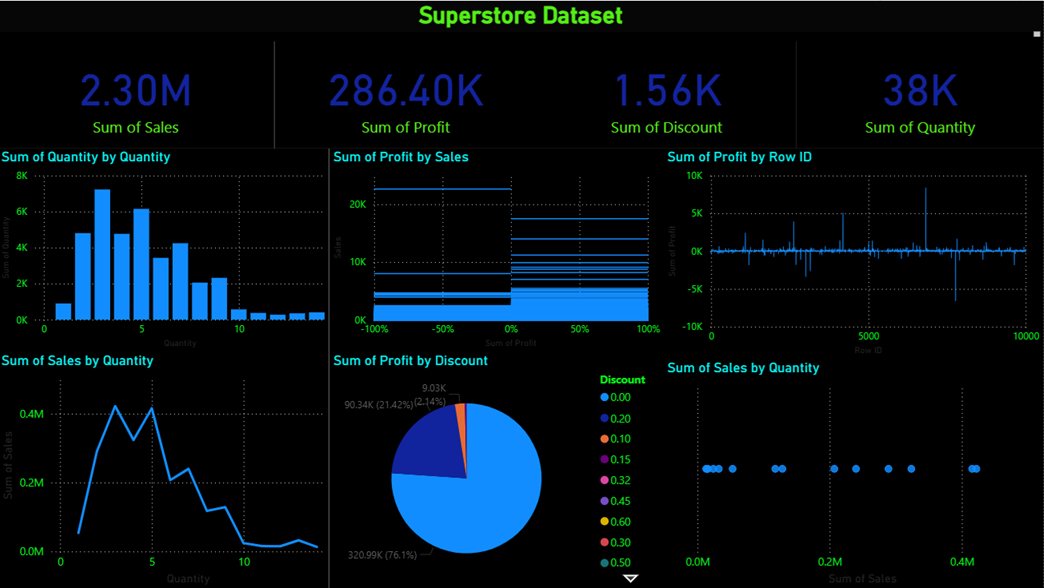

What the dashboard file says about the page in this screenshot:
{"tool":"powerbi","page":{"name":"Page 1","canvas":[1280,720],"ordinal":0},"visuals":[{"type":"columnChart","fields":{"Category":["Orders.Quantity"],"Y":["Sum(Orders.Quantity)"]},"box":[0,181,406,249.5],"z":0},{"type":"lineChart","fields":{"Category":["Orders.Quantity"],"Y":["Sum(Orders.Sales)"]},"box":[0,430.4,406,289.8],"z":1000},{"type":"hundredPercentStackedBarChart","fields":{"Y":["Sum(Orders.Profit)"],"Category":["Orders.Sales"]},"box":[406,181,409.6,249.5],"z":2000},{"type":"pieChart","fields":{"Category":["Orders.Discount"],"Y":["Sum(Orders.Profit)"]},"box":[406,430.4,409.6,289.8],"z":3000},{"type":"ribbonChart","fields":{"Category":["Orders.Row ID"],"Y":["Sum(Orders.Profit)"]},"box":[814.4,181,465.9,258],"z":4000},{"type":"scatterChart","fields":{"Category":["Orders.Quantity"],"X":["Sum(Orders.Sales)"]},"box":[814.4,439,465.9,281.3],"z":5000},{"type":"textbox","title":"Superstore Dataset","box":[0,0,1280.3,49.4],"z":6000},{"type":"card","fields":{"Values":["Sum(Orders2.Sales)"]},"box":[0,48.9,338.7,132.1],"z":6001},{"type":"card","fields":{"Values":["Sum(Orders2.Profit)"]},"box":[338.7,48.9,321.6,132.1],"z":6002},{"type":"card","fields":{"Values":["Sum(Orders2.Discount)"]},"box":[660.3,48.9,316.7,132.1],"z":6003},{"type":"card","fields":{"Values":["Sum(Orders2.Quantity)"]},"box":[977,48.9,303.3,132.1],"z":6004}]}

Visuals, with their boxes in screenshot pixels (x1, y1, x2, y2), scaled from the page's 1280x720 canvas onto the 1044x588 screenshot:
columnChart - Orders.Quantity x Sum(Orders.Quantity): left=0, top=148, right=331, bottom=352
lineChart - Orders.Quantity x Sum(Orders.Sales): left=0, top=351, right=331, bottom=587
hundredPercentStackedBarChart - Sum(Orders.Profit) x Orders.Sales: left=331, top=148, right=665, bottom=352
pieChart - Orders.Discount x Sum(Orders.Profit): left=331, top=351, right=665, bottom=587
ribbonChart - Orders.Row ID x Sum(Orders.Profit): left=664, top=148, right=1043, bottom=359
scatterChart - Orders.Quantity x Sum(Orders.Sales): left=664, top=359, right=1043, bottom=587
"Superstore Dataset" textbox: left=0, top=0, right=1043, bottom=40
card - Sum(Orders2.Sales): left=0, top=40, right=276, bottom=148
card - Sum(Orders2.Profit): left=276, top=40, right=539, bottom=148
card - Sum(Orders2.Discount): left=539, top=40, right=797, bottom=148
card - Sum(Orders2.Quantity): left=797, top=40, right=1043, bottom=148
